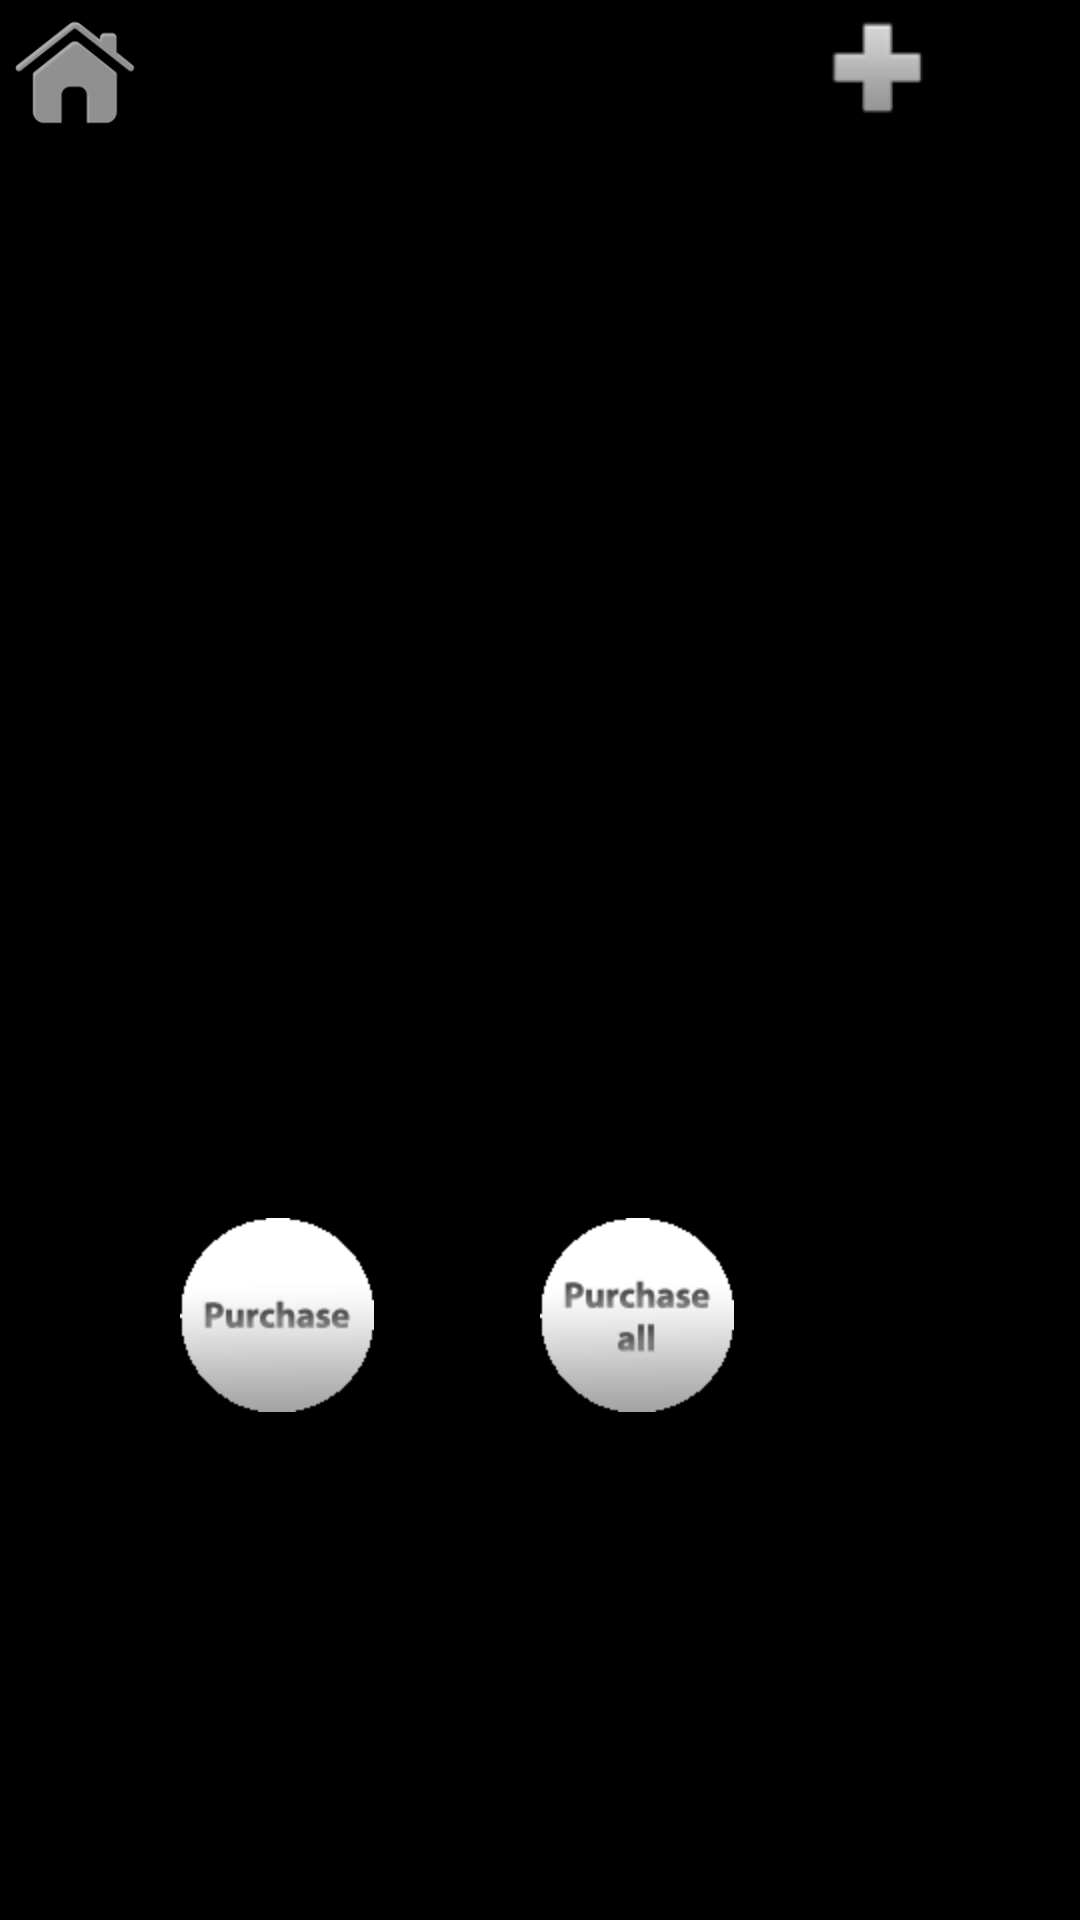

Where icons sit on this 1080*1920 app screen, as [left=x1, top=y1, right=x2, bottom=y2]:
home: [left=15, top=21, right=134, bottom=123]
plus: [left=832, top=22, right=922, bottom=113]
